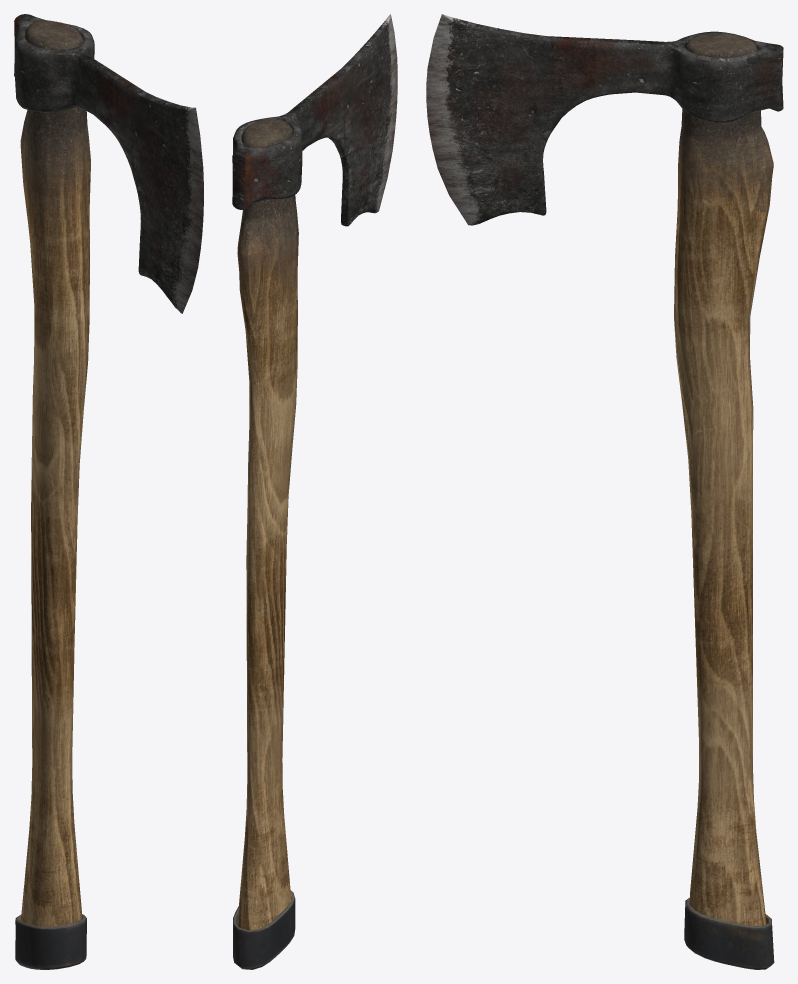
Rendered from wooden_axe.gltf.
3 renders of one model, left to right at view 1: azimuth 30°, elevation 25°; view 2: azimuth 150°, elevation 25°; view 3: azimuth 270°, elevation 25°, orthographic. The views are drawn at different scales.
Parts seen in each view (by area): view 1: wooden_axe__x; view 2: wooden_axe__x; view 3: wooden_axe__x.
Boxes of the visible parts, box(x1,y1,x2,y2) form: wooden_axe__x: box(14, 14, 203, 969); wooden_axe__x: box(232, 14, 397, 969); wooden_axe__x: box(426, 14, 783, 969).
Size of the model in its own units: 0.0472 by 0.6303 by 0.2143.
1 material, 1 textured.
